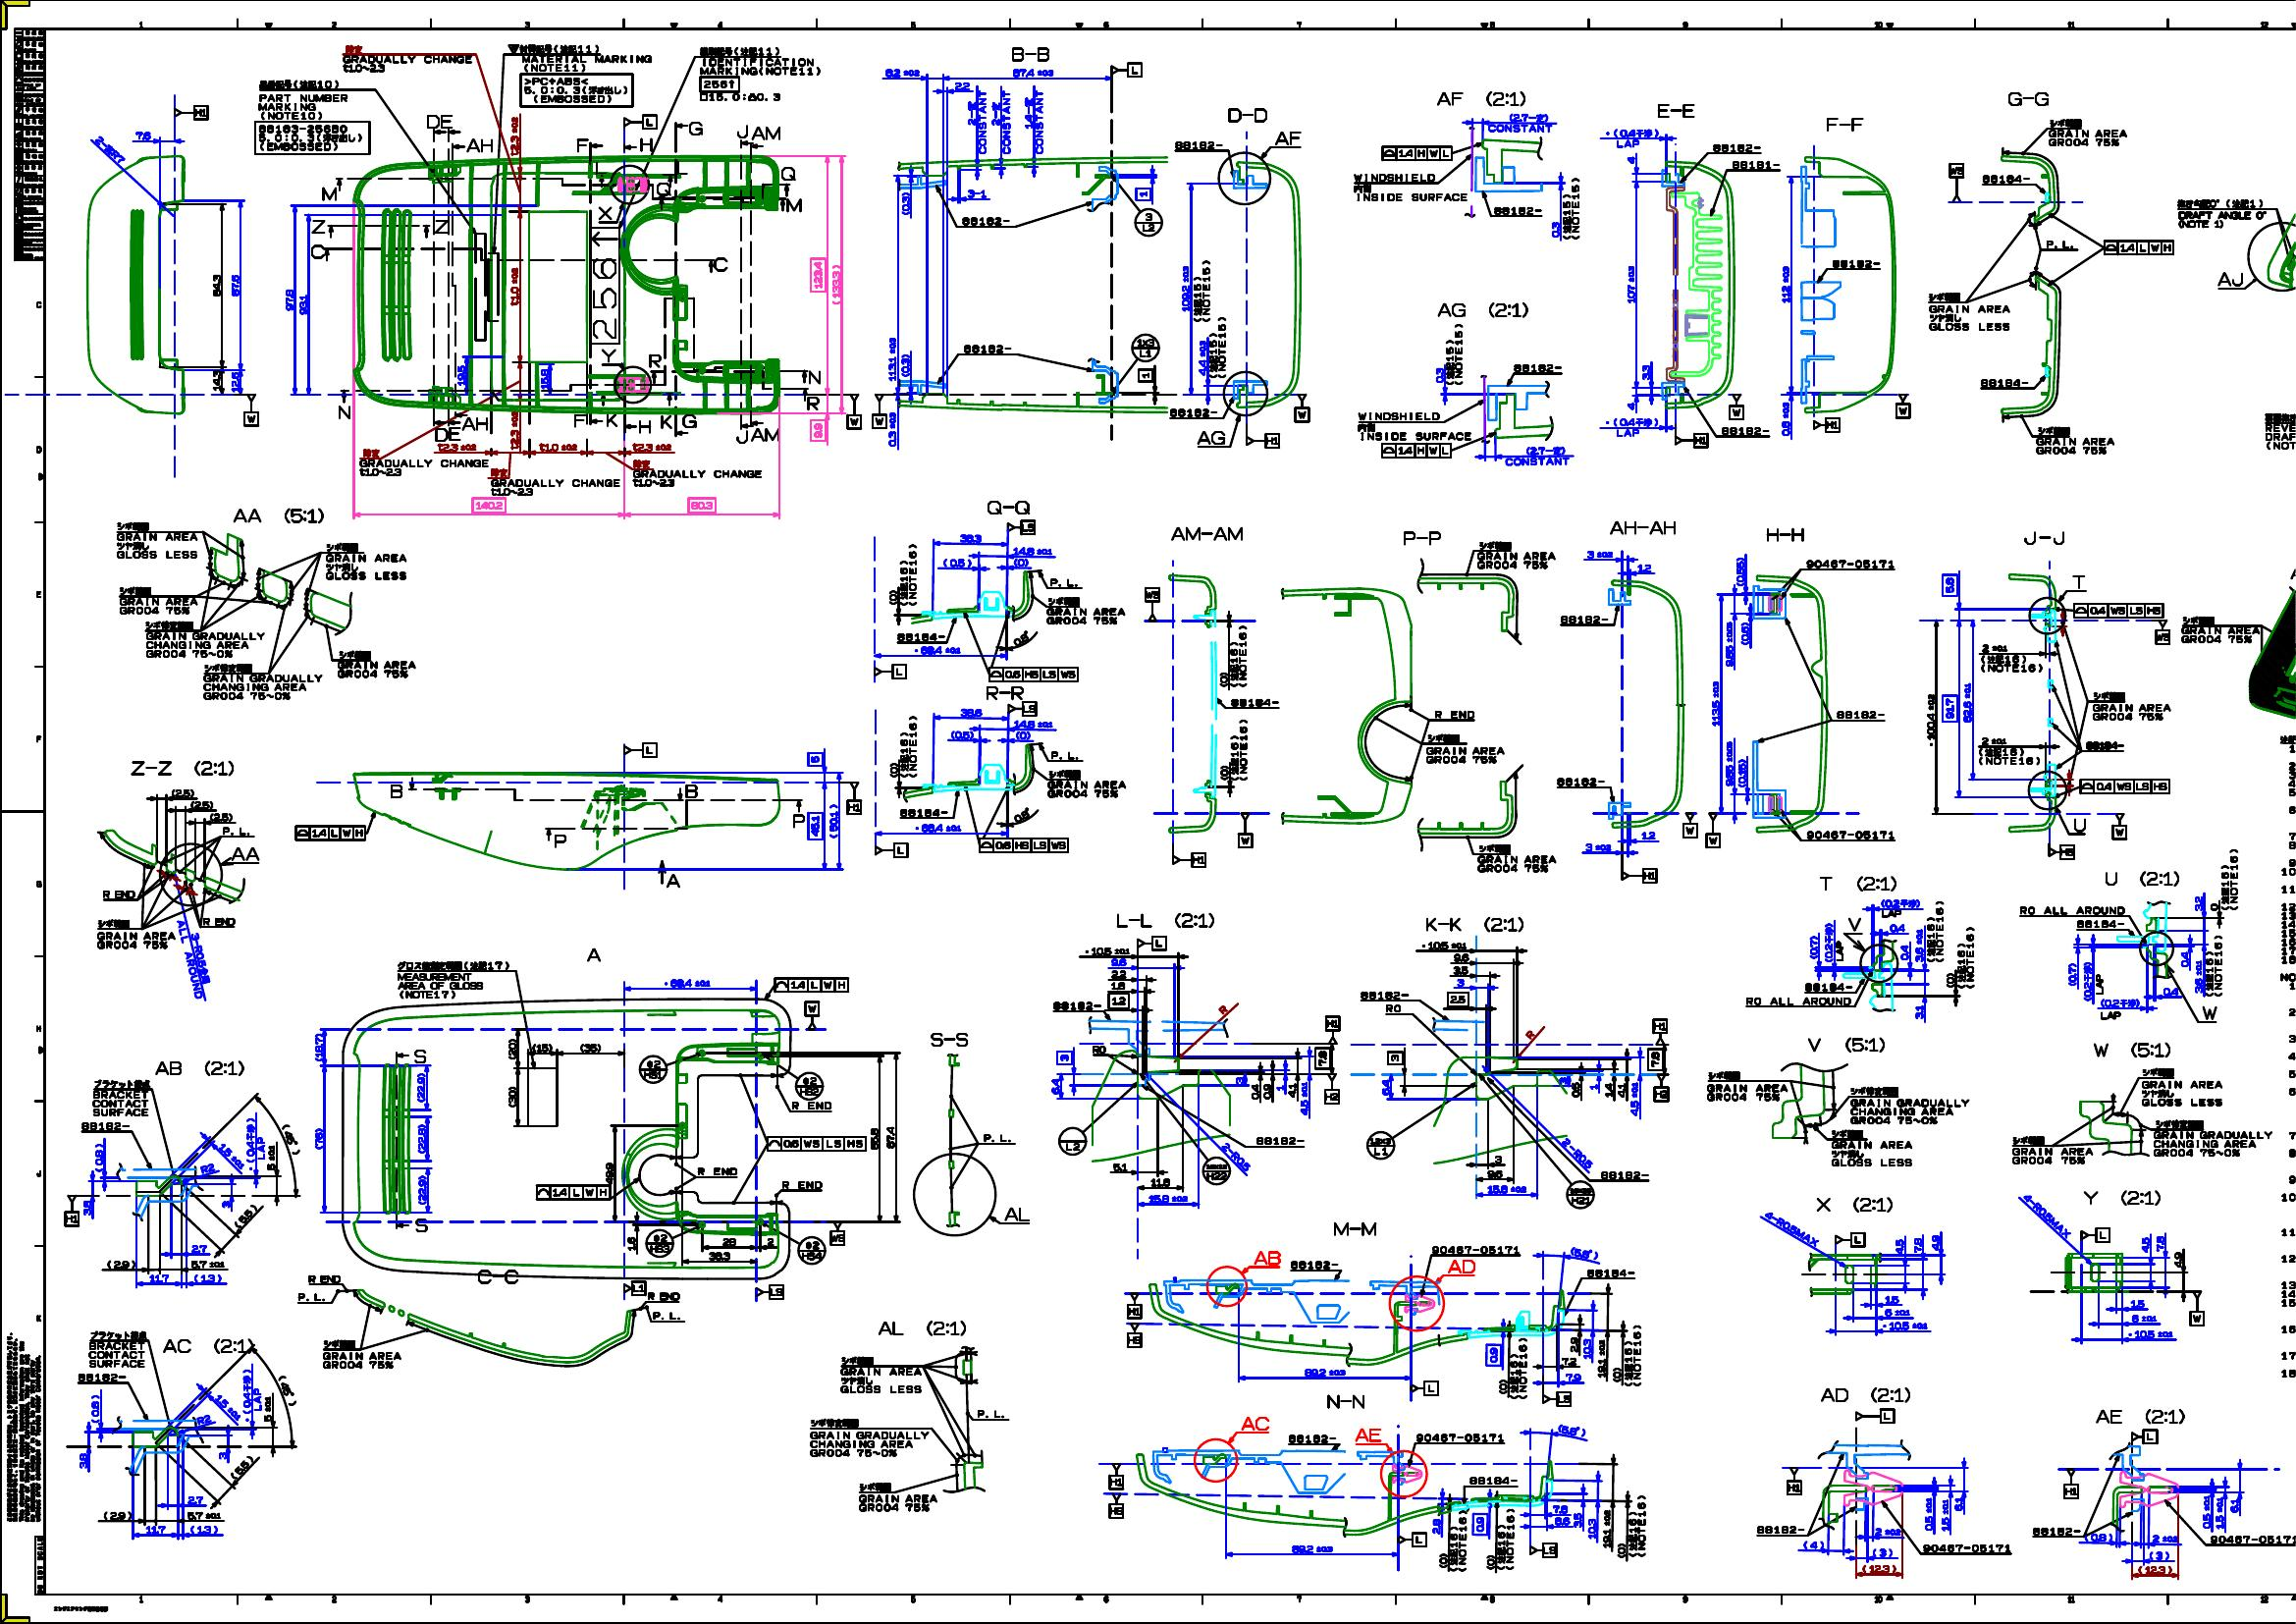anntotation_text: (506, 42, 652, 107), (253, 79, 371, 155), (697, 44, 824, 102), (5, 1332, 40, 1520), (808, 1418, 931, 1457), (2152, 1120, 2273, 1158), (1850, 1086, 1969, 1125), (397, 960, 509, 1000), (144, 620, 265, 657), (202, 664, 323, 701), (341, 40, 474, 72), (632, 459, 764, 489), (490, 468, 620, 496), (840, 1353, 922, 1396), (325, 541, 411, 582), (1356, 411, 1472, 441), (1353, 172, 1467, 202), (1927, 292, 2011, 332), (114, 520, 199, 559), (1830, 1128, 1915, 1167), (2141, 1069, 2222, 1107), (2175, 199, 2268, 230), (1425, 733, 1507, 766), (2090, 691, 2173, 722), (1706, 1069, 1788, 1100), (97, 917, 176, 949), (2034, 425, 2117, 455), (1476, 844, 1558, 874), (358, 446, 432, 480), (857, 1482, 938, 1512), (1476, 540, 1556, 569), (2010, 1135, 2094, 1164), (321, 1339, 404, 1367), (2180, 615, 2261, 643), (118, 587, 199, 615), (88, 1329, 146, 1367), (337, 650, 416, 678), (1047, 770, 1126, 798), (1045, 598, 1124, 626), (2048, 118, 2126, 146), (93, 1077, 149, 1116), (128, 758, 235, 777), (149, 947, 239, 968), (878, 1318, 966, 1339), (1423, 916, 1527, 933), (153, 1058, 246, 1077), (1114, 910, 1214, 928), (1820, 1385, 1910, 1404), (232, 508, 325, 526), (764, 1135, 866, 1151), (1433, 90, 1525, 107), (2094, 1408, 2184, 1425), (1486, 112, 1555, 135), (2092, 1040, 2173, 1060), (1435, 302, 1530, 318), (162, 1338, 255, 1353), (436, 441, 490, 468), (989, 666, 1079, 682), (1818, 874, 1897, 891), (1806, 1035, 1885, 1053), (2103, 870, 2182, 888), (1628, 1494, 1650, 1559), (991, 90, 1012, 155), (966, 90, 987, 155), (1191, 258, 1212, 323), (1815, 1195, 1892, 1213), (2264, 411, 2296, 453), (1980, 652, 2043, 673), (1560, 178, 1581, 241), (534, 1183, 610, 1200), (773, 975, 848, 993), (1168, 526, 1244, 543), (1955, 926, 1976, 988), (978, 838, 1070, 852), (2073, 603, 2164, 617), (1607, 518, 1679, 536), (2080, 779, 2170, 793), (1230, 717, 1249, 782), (1024, 90, 1043, 155), (2083, 1190, 2162, 1206), (1381, 441, 1451, 459), (295, 824, 365, 842), (1505, 446, 1569, 466), (1978, 747, 2041, 766), (1925, 900, 1945, 963), (1230, 626, 1249, 689), (898, 543, 917, 606), (2220, 847, 2240, 910), (1623, 1325, 1643, 1387), (899, 714, 917, 780), (1446, 322, 1463, 387), (1509, 1336, 1527, 1401), (2103, 239, 2175, 255), (1744, 995, 1852, 1005), (2018, 905, 2126, 916), (1806, 828, 1895, 840), (1449, 1510, 1467, 1571), (1497, 1508, 1514, 1570), (2205, 935, 2222, 997), (1209, 316, 1226, 378), (1056, 1125, 1087, 1156), (1613, 127, 1660, 148), (1381, 146, 1451, 160), (241, 1367, 262, 1413), (2097, 998, 2140, 1021), (1922, 1543, 2013, 1554), (1613, 417, 1658, 438), (1416, 1432, 1505, 1443), (1806, 557, 1894, 568), (1432, 1244, 1520, 1255), (2004, 90, 2052, 109), (246, 1116, 265, 1164), (1332, 1218, 1379, 1237), (2210, 1534, 2296, 1545), (1365, 1130, 1395, 1160), (1565, 1179, 1595, 1209), (1133, 207, 1163, 237), (1130, 332, 1159, 362), (792, 1070, 824, 1098), (1823, 923, 1845, 963), (638, 1055, 666, 1084), (645, 1229, 675, 1257), (796, 1236, 826, 1264), (1202, 1156, 1231, 1185), (1758, 1223, 1825, 1236), (2083, 960, 2103, 1000), (2022, 529, 2066, 547), (984, 499, 1031, 515), (1880, 900, 1922, 917), (1400, 529, 1442, 547), (1008, 46, 1051, 63), (929, 1032, 970, 1049), (1657, 102, 1695, 120), (1764, 526, 1806, 541), (476, 1269, 518, 1285), (1226, 107, 1268, 123), (1825, 116, 1866, 132), (1948, 163, 1964, 204), (1325, 1394, 1365, 1410), (35, 1534, 46, 1594), (2017, 1211, 2076, 1222), (1230, 696, 1281, 708), (172, 104, 207, 121), (845, 780, 863, 816), (1855, 1408, 1894, 1424), (1555, 775, 1604, 787), (1713, 141, 1762, 153), (88, 142, 128, 156), (984, 685, 1024, 700), (423, 112, 455, 130), (464, 137, 495, 155), (1172, 851, 1207, 866), (748, 127, 783, 142), (871, 394, 887, 429), (1432, 707, 1476, 719), (1830, 258, 1881, 269), (1513, 362, 1563, 373), (1051, 1000, 1101, 1011), (1599, 1169, 1650, 1179), (1288, 1432, 1339, 1443), (77, 1371, 128, 1381), (898, 807, 949, 817), (961, 216, 1012, 227), (1172, 139, 1223, 149), (624, 112, 657, 128), (63, 1193, 79, 1227), (873, 664, 906, 680), (1245, 432, 1279, 448), (432, 425, 462, 443), (460, 417, 490, 434), (750, 427, 780, 445), (1982, 174, 2031, 185), (1836, 708, 1885, 719), (782, 1178, 824, 1190), (1256, 1135, 1305, 1146), (1360, 990, 1409, 1000), (1560, 613, 1609, 624), (896, 631, 945, 642), (2032, 1526, 2082, 1536), (963, 343, 1012, 353), (1493, 206, 1542, 216), (1732, 160, 1781, 170), (1980, 378, 2027, 388), (624, 742, 655, 758), (2064, 1468, 2080, 1499), (1834, 1230, 1866, 1246), (1110, 62, 1142, 77), (847, 394, 861, 429), (1706, 812, 1720, 847), (1621, 868, 1657, 882), (1354, 1425, 1383, 1443), (1238, 812, 1253, 847), (1674, 432, 1709, 446), (53, 1605, 107, 1613), (755, 1283, 785, 1299), (1323, 1074, 1339, 1104), (1137, 935, 1166, 951), (1240, 1417, 1270, 1432), (230, 845, 260, 861), (2080, 1227, 2110, 1243), (1196, 431, 1226, 446), (1293, 392, 1309, 422), (875, 842, 908, 856), (2048, 842, 2075, 859), (1530, 1541, 1556, 1559), (1254, 1250, 1281, 1267), (1802, 982, 1853, 991), (1467, 1476, 1518, 1485), (81, 1121, 132, 1130), (2075, 919, 2126, 928), (1755, 1526, 1806, 1534), (1585, 1267, 1635, 1276), (244, 394, 258, 425), (2112, 812, 2127, 840), (696, 1165, 738, 1176), (1398, 1531, 1426, 1547), (1785, 1466, 1801, 1494), (1448, 1258, 1476, 1274), (1275, 130, 1303, 146), (1145, 587, 1158, 622), (1289, 1260, 1339, 1269), (1722, 425, 1771, 434), (791, 1100, 831, 1111), (805, 1000, 819, 1030), (1542, 1392, 1572, 1406), (1003, 1207, 1029, 1223), (1126, 1294, 1142, 1320), (1107, 1462, 1123, 1489), (1412, 1380, 1439, 1396), (1170, 408, 1217, 417), (2191, 1292, 2203, 1325), (2085, 740, 2124, 750), (1325, 1016, 1339, 1044), (1655, 1074, 1669, 1102), (1008, 701, 1036, 715), (1007, 520, 1035, 534), (1729, 395, 1744, 420), (1815, 417, 1839, 432), (829, 1222, 845, 1246), (1651, 1019, 1667, 1044), (2217, 272, 2243, 286), (1683, 812, 1697, 838), (1126, 1322, 1140, 1348), (2131, 1429, 2157, 1443), (1051, 749, 1080, 761), (624, 1280, 646, 1295), (307, 1272, 341, 1283), (646, 1290, 680, 1301), (202, 916, 235, 926), (2155, 620, 2170, 645), (1108, 1494, 1123, 1519), (634, 417, 653, 434), (2071, 816, 2090, 833), (583, 947, 603, 965), (789, 812, 808, 830), (550, 831, 569, 849), (805, 367, 824, 385), (636, 135, 655, 153), (653, 181, 673, 199), (1895, 394, 1910, 417), (982, 1132, 1012, 1142), (975, 1408, 1005, 1418), (1049, 576, 1079, 587), (320, 185, 337, 202), (334, 404, 351, 422), (571, 411, 588, 429), (599, 346, 617, 364), (411, 1048, 429, 1065), (413, 1216, 430, 1234), (386, 782, 404, 800), (733, 429, 750, 446), (785, 197, 803, 214), (780, 163, 798, 181), (687, 120, 704, 137), (306, 244, 325, 260), (2069, 573, 2089, 589), (683, 784, 703, 800), (662, 874, 682, 889), (711, 257, 731, 272), (2047, 239, 2075, 250), (297, 1292, 325, 1302), (221, 826, 249, 837), (102, 889, 135, 898), (309, 220, 327, 236), (432, 220, 450, 236), (645, 353, 662, 369), (603, 413, 620, 429), (657, 415, 675, 431), (682, 413, 699, 429), (650, 1311, 682, 1320), (2201, 1004, 2217, 1021), (805, 395, 822, 411), (733, 123, 750, 139), (573, 137, 590, 153), (596, 206, 613, 221), (1846, 917, 1862, 932)
dimension_text: (471, 497, 506, 515), (810, 257, 826, 292), (913, 823, 963, 833), (913, 645, 963, 656), (664, 977, 711, 988), (1881, 1320, 1929, 1330), (1180, 264, 1191, 311), (1419, 940, 1467, 951), (806, 812, 824, 840), (1941, 694, 1959, 722), (1925, 692, 1934, 747), (508, 411, 520, 450), (1217, 1149, 1256, 1162), (1289, 1543, 1333, 1554), (1860, 1562, 1897, 1575), (1147, 1193, 1189, 1204), (1012, 67, 1054, 77), (687, 497, 715, 513), (631, 441, 673, 452), (1446, 991, 1470, 1009), (509, 116, 520, 156), (1014, 719, 1054, 729), (538, 441, 578, 452), (1595, 1338, 1606, 1378), (1486, 1183, 1527, 1193), (1556, 1148, 1597, 1158), (1962, 682, 1973, 722), (1602, 1508, 1613, 1547), (2127, 1329, 2173, 1338), (1725, 740, 1734, 786), (1711, 680, 1720, 726), (1725, 620, 1734, 666), (1084, 947, 1130, 956), (281, 1374, 293, 1406), (2136, 1564, 2173, 1575), (884, 67, 921, 77), (1196, 339, 1207, 376), (827, 801, 838, 838), (1941, 573, 1957, 598), (887, 337, 896, 381), (1303, 1367, 1347, 1376), (186, 1510, 221, 1520), (190, 1258, 225, 1269), (1646, 1049, 1664, 1070), (831, 264, 840, 306), (1314, 1048, 1332, 1069), (90, 1394, 102, 1424), (1569, 1248, 1599, 1260), (1472, 1512, 1488, 1534), (1012, 547, 1052, 555), (1939, 1497, 1950, 1531), (1627, 265, 1635, 304), (1781, 265, 1790, 304), (509, 267, 518, 306), (227, 1462, 258, 1473), (230, 1209, 262, 1220), (286, 1123, 297, 1155), (93, 1142, 104, 1174), (313, 1032, 323, 1063), (415, 1072, 425, 1104), (416, 1123, 427, 1155), (416, 1174, 427, 1206), (810, 420, 826, 441), (1734, 555, 1744, 587), (942, 557, 973, 568), (1486, 1345, 1502, 1366), (102, 1510, 132, 1520), (105, 1258, 135, 1269), (1736, 758, 1746, 787), (209, 1403, 244, 1411), (214, 1151, 249, 1160), (1630, 1081, 1639, 1116), (1924, 1496, 1932, 1531), (1915, 928, 1924, 963), (887, 411, 896, 446), (1781, 401, 1790, 436), (1300, 1081, 1309, 1116), (1108, 993, 1128, 1009), (193, 1272, 221, 1283), (2150, 1534, 2178, 1545), (2085, 1531, 2113, 1541), (1558, 1425, 1586, 1436), (2201, 1494, 2210, 1527), (2215, 1496, 2224, 1529), (2194, 960, 2203, 993), (265, 1144, 276, 1171), (1808, 933, 1818, 960), (1586, 548, 1613, 559), (1982, 735, 2008, 745), (188, 1526, 218, 1534), (170, 787, 195, 798), (207, 812, 232, 823), (884, 1125, 894, 1149), (959, 707, 984, 717), (1137, 188, 1154, 202), (1386, 1051, 1404, 1065), (506, 1037, 516, 1060), (506, 1084, 516, 1107), (531, 1042, 553, 1053), (580, 1042, 603, 1053), (604, 1160, 615, 1183), (1801, 1540, 1823, 1550), (283, 288, 293, 311), (901, 192, 912, 214), (959, 533, 982, 543), (264, 1396, 272, 1422), (1883, 1308, 1910, 1316), (2131, 1313, 2157, 1322), (1874, 1527, 1901, 1536), (1585, 842, 1611, 851), (1982, 643, 2008, 652), (1056, 1051, 1072, 1065), (966, 188, 987, 199), (1138, 367, 1154, 381), (808, 752, 824, 766), (2068, 961, 2076, 986), (230, 272, 239, 297), (901, 353, 910, 378), (1014, 808, 1031, 821), (199, 1164, 218, 1174), (1873, 1547, 1892, 1557), (1012, 633, 1031, 643), (314, 1127, 323, 1149), (190, 800, 213, 808), (708, 1251, 731, 1260), (870, 1127, 878, 1149), (211, 274, 220, 297), (1741, 622, 1750, 645), (950, 731, 973, 740), (457, 364, 466, 387), (146, 1526, 167, 1534), (195, 1413, 213, 1424), (190, 1243, 207, 1253), (148, 1274, 169, 1283), (1149, 1178, 1170, 1186), (1049, 1077, 1059, 1095), (1108, 981, 1126, 991), (2148, 1550, 2170, 1559), (1433, 366, 1444, 383), (539, 367, 548, 388), (230, 371, 239, 392), (1430, 1517, 1440, 1534), (1563, 1371, 1581, 1381), (1560, 1355, 1578, 1366), (1583, 1338, 1592, 1359), (213, 371, 221, 390), (1588, 1519, 1597, 1538), (1451, 965, 1470, 974), (1451, 953, 1470, 961), (188, 1494, 204, 1504), (627, 1236, 638, 1251), (1091, 1044, 1107, 1055), (1110, 968, 1126, 979), (1569, 1083, 1579, 1098), (1894, 1237, 1904, 1253), (1953, 1496, 1964, 1512), (2229, 1497, 2240, 1513), (1945, 972, 1955, 988), (1641, 830, 1657, 840), (1635, 562, 1651, 573), (887, 589, 898, 605), (1484, 1554, 1495, 1570), (1572, 1512, 1583, 1527), (1569, 1336, 1579, 1352), (79, 1452, 88, 1469), (83, 1199, 91, 1216), (1604, 1083, 1613, 1100), (1883, 1294, 1901, 1302), (2155, 1234, 2164, 1251), (2141, 1236, 2150, 1253), (2162, 986, 2180, 995), (1888, 923, 1906, 932), (1551, 221, 1560, 239), (1219, 671, 1228, 689), (1108, 958, 1126, 967), (1251, 1083, 1260, 1100), (1263, 1083, 1272, 1100), (1439, 1552, 1448, 1570), (1616, 1541, 1625, 1559), (1498, 1378, 1507, 1396), (1486, 1169, 1504, 1178), (1381, 1077, 1390, 1095), (1384, 1004, 1402, 1012), (135, 130, 149, 141), (299, 294, 306, 315), (1112, 1162, 1128, 1171), (1616, 1083, 1625, 1098), (1913, 1236, 1922, 1251), (1931, 1234, 1939, 1250), (2131, 1299, 2147, 1308), (2180, 951, 2189, 967), (2194, 895, 2203, 910), (1899, 944, 1908, 960), (954, 81, 970, 90), (1641, 364, 1650, 380), (1219, 765, 1228, 780), (889, 761, 898, 777), (1015, 731, 1031, 740), (1288, 1083, 1296, 1098), (1555, 1517, 1570, 1526), (1551, 1504, 1567, 1513), (1613, 1366, 1621, 1381), (722, 1236, 736, 1244), (1915, 1005, 1924, 1019), (1014, 557, 1028, 566), (220, 1199, 230, 1209), (2175, 1251, 2182, 1267), (1217, 1004, 1228, 1014), (218, 1450, 228, 1459), (1525, 1028, 1534, 1039), (1627, 155, 1635, 165), (1493, 1155, 1504, 1164), (1590, 1083, 1599, 1091), (2210, 902, 2219, 910), (1235, 1076, 1244, 1084), (1456, 977, 1465, 986), (1627, 401, 1634, 411), (766, 1237, 775, 1244), (1275, 1084, 1284, 1091)
object: (341, 997, 791, 1281), (351, 153, 782, 413), (892, 155, 1170, 415), (1275, 571, 1518, 838), (351, 770, 782, 872), (1137, 1446, 1555, 1538), (1147, 1276, 1565, 1366), (1799, 153, 1899, 417), (86, 155, 186, 415), (350, 1287, 638, 1369), (1087, 1016, 1233, 1162), (1428, 1018, 1569, 1162), (1607, 580, 1686, 831), (1753, 573, 1829, 835), (1658, 158, 1736, 408), (1231, 160, 1303, 410), (2001, 148, 2062, 420), (207, 533, 353, 634), (2008, 571, 2059, 833), (1168, 573, 1217, 835), (95, 828, 242, 902), (903, 743, 1033, 801), (908, 569, 1033, 626), (1820, 1443, 1908, 1522), (2108, 1443, 2180, 1527), (1769, 1067, 1836, 1141), (116, 1418, 200, 1475), (1839, 939, 1897, 1011), (2115, 902, 2170, 977), (1483, 381, 1551, 439), (954, 1352, 982, 1490), (119, 1167, 199, 1216), (2076, 1098, 2143, 1156), (1472, 137, 1542, 192), (1808, 1253, 1876, 1295), (2062, 1250, 2126, 1294), (945, 1053, 959, 1227)
title_block: (12, 26, 46, 260)
